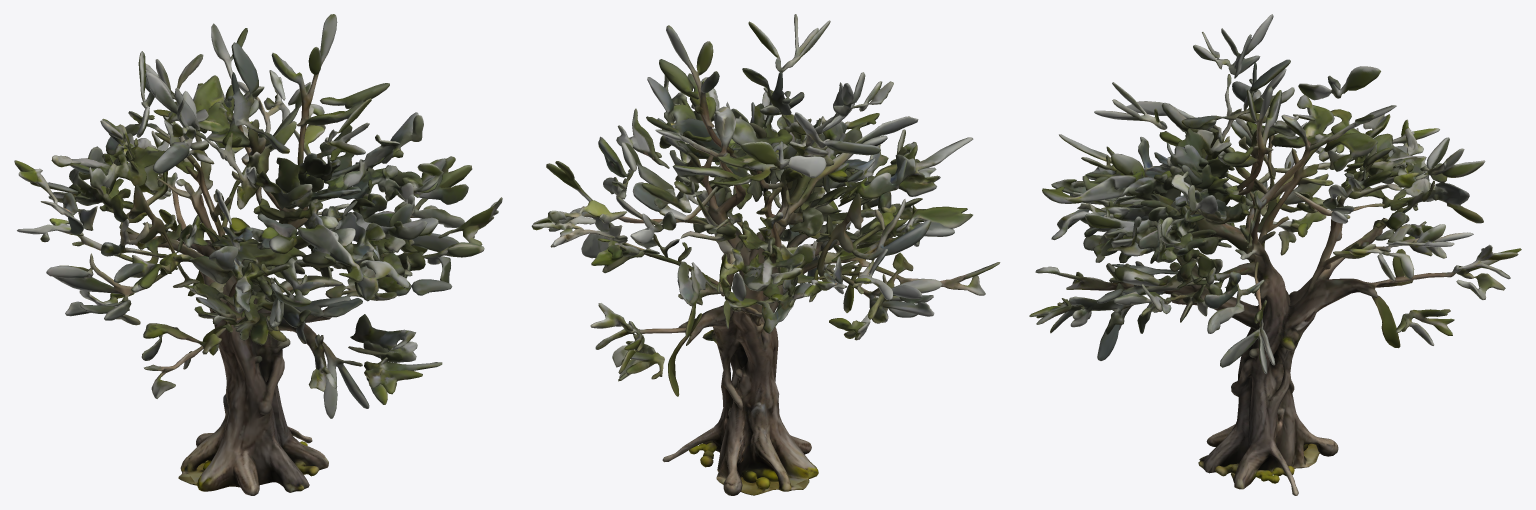
The model's file is nature-tree-olive.glb.
3 views of the same model, side by side, from view 1: azimuth 30°, elevation 25°; view 2: azimuth 150°, elevation 25°; view 3: azimuth 270°, elevation 25° (orthographic). The views are drawn at different scales.
Parts seen in each view (by area): view 1: tripo_node_f2c1e503-7178-4a45-80fc-cb227a6e086e; view 2: tripo_node_f2c1e503-7178-4a45-80fc-cb227a6e086e; view 3: tripo_node_f2c1e503-7178-4a45-80fc-cb227a6e086e.
Boxes of the visible parts, left/top/right/bottom form: tripo_node_f2c1e503-7178-4a45-80fc-cb227a6e086e: left=14, top=14, right=502, bottom=495; tripo_node_f2c1e503-7178-4a45-80fc-cb227a6e086e: left=531, top=14, right=1000, bottom=495; tripo_node_f2c1e503-7178-4a45-80fc-cb227a6e086e: left=1029, top=14, right=1521, bottom=495.
Bounding box in the file's own units: 4.87 × 5 × 5.4.
1 material, 1 textured.
